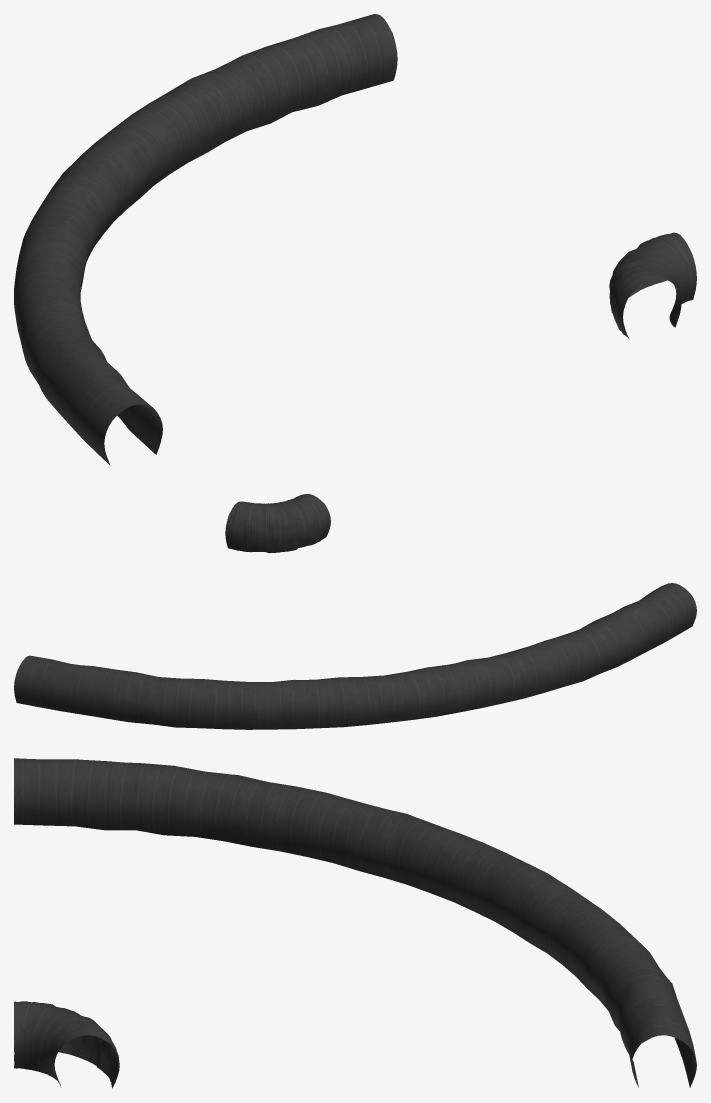
The model's file is large_black_edge_corner_complex.dae.
The picture shows the model from 3 angles, top to bottom: view 1: azimuth 30°, elevation 25°; view 2: azimuth 150°, elevation 25°; view 3: azimuth 270°, elevation 25°; orthographic projection. The views are drawn at different scales.
Visible parts, largest first — view 1: large_black_edge_corner; view 2: large_black_edge_corner; view 3: large_black_edge_corner.
Part boxes in pixels (box(x1,y1,x2,y2)): large_black_edge_corner: box(14, 14, 696, 465); large_black_edge_corner: box(14, 494, 696, 729); large_black_edge_corner: box(14, 758, 696, 1088).
Size of the model in its own units: 2.83 by 2.83 by 0.2534.
Materials: 1 (1 with a texture image).
